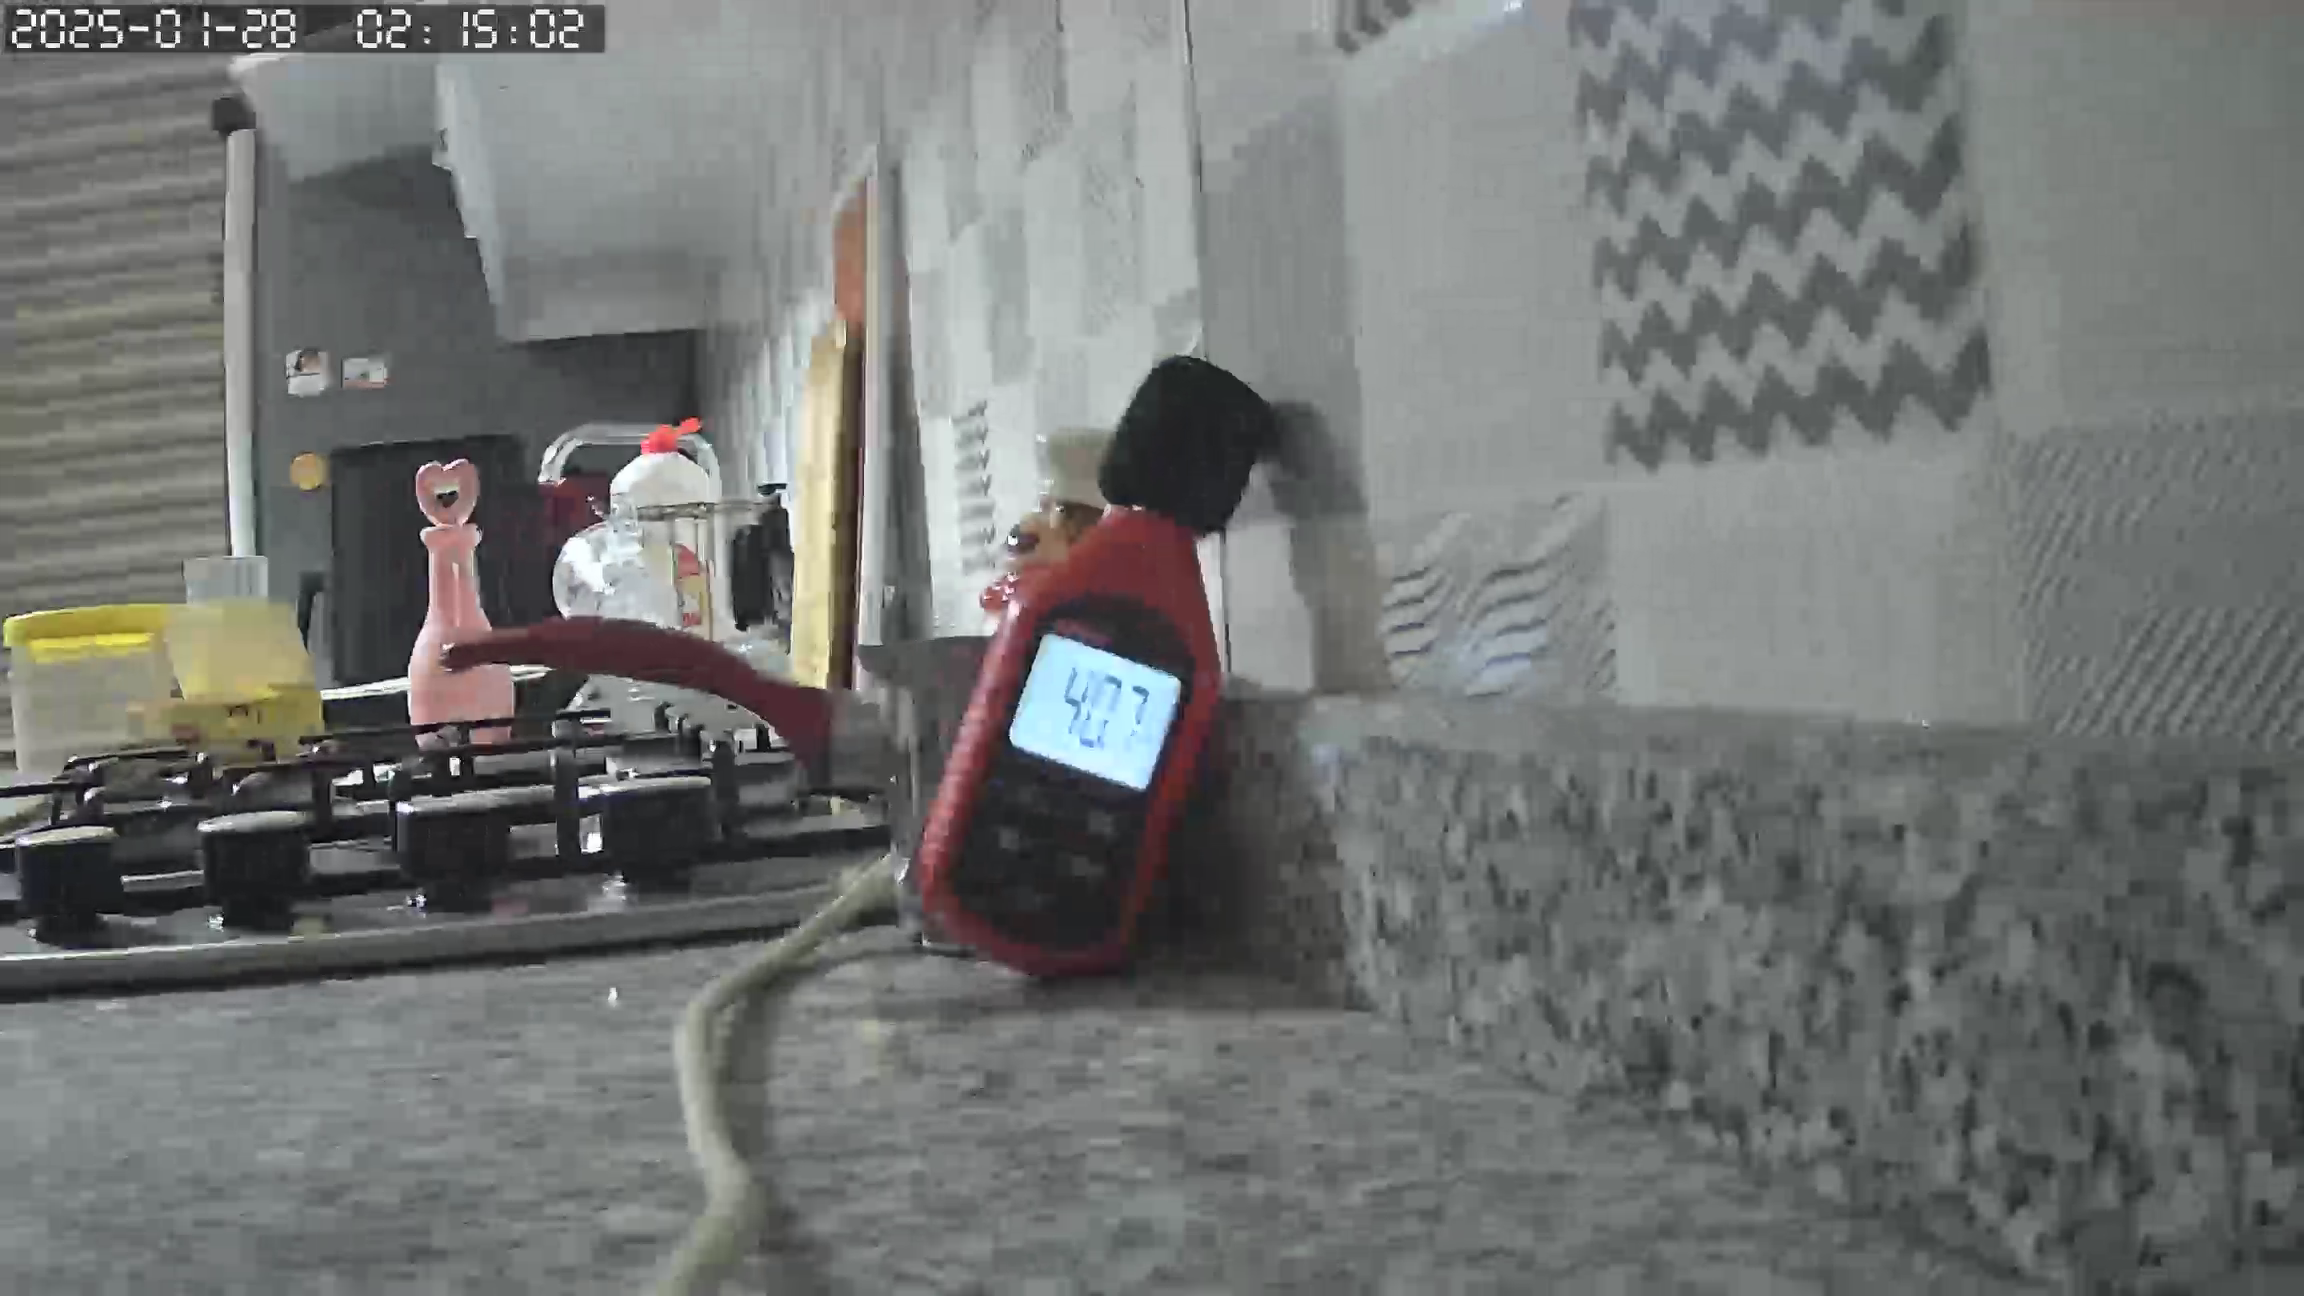screen: (1000, 631, 1180, 793)
